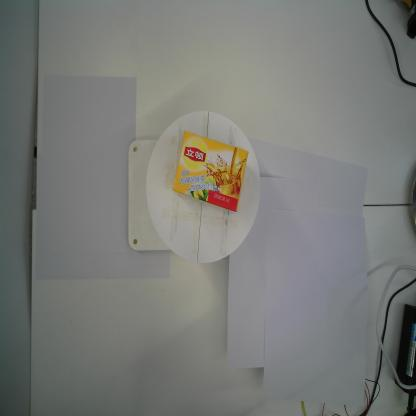Instant Drink: (171, 129, 250, 214)
